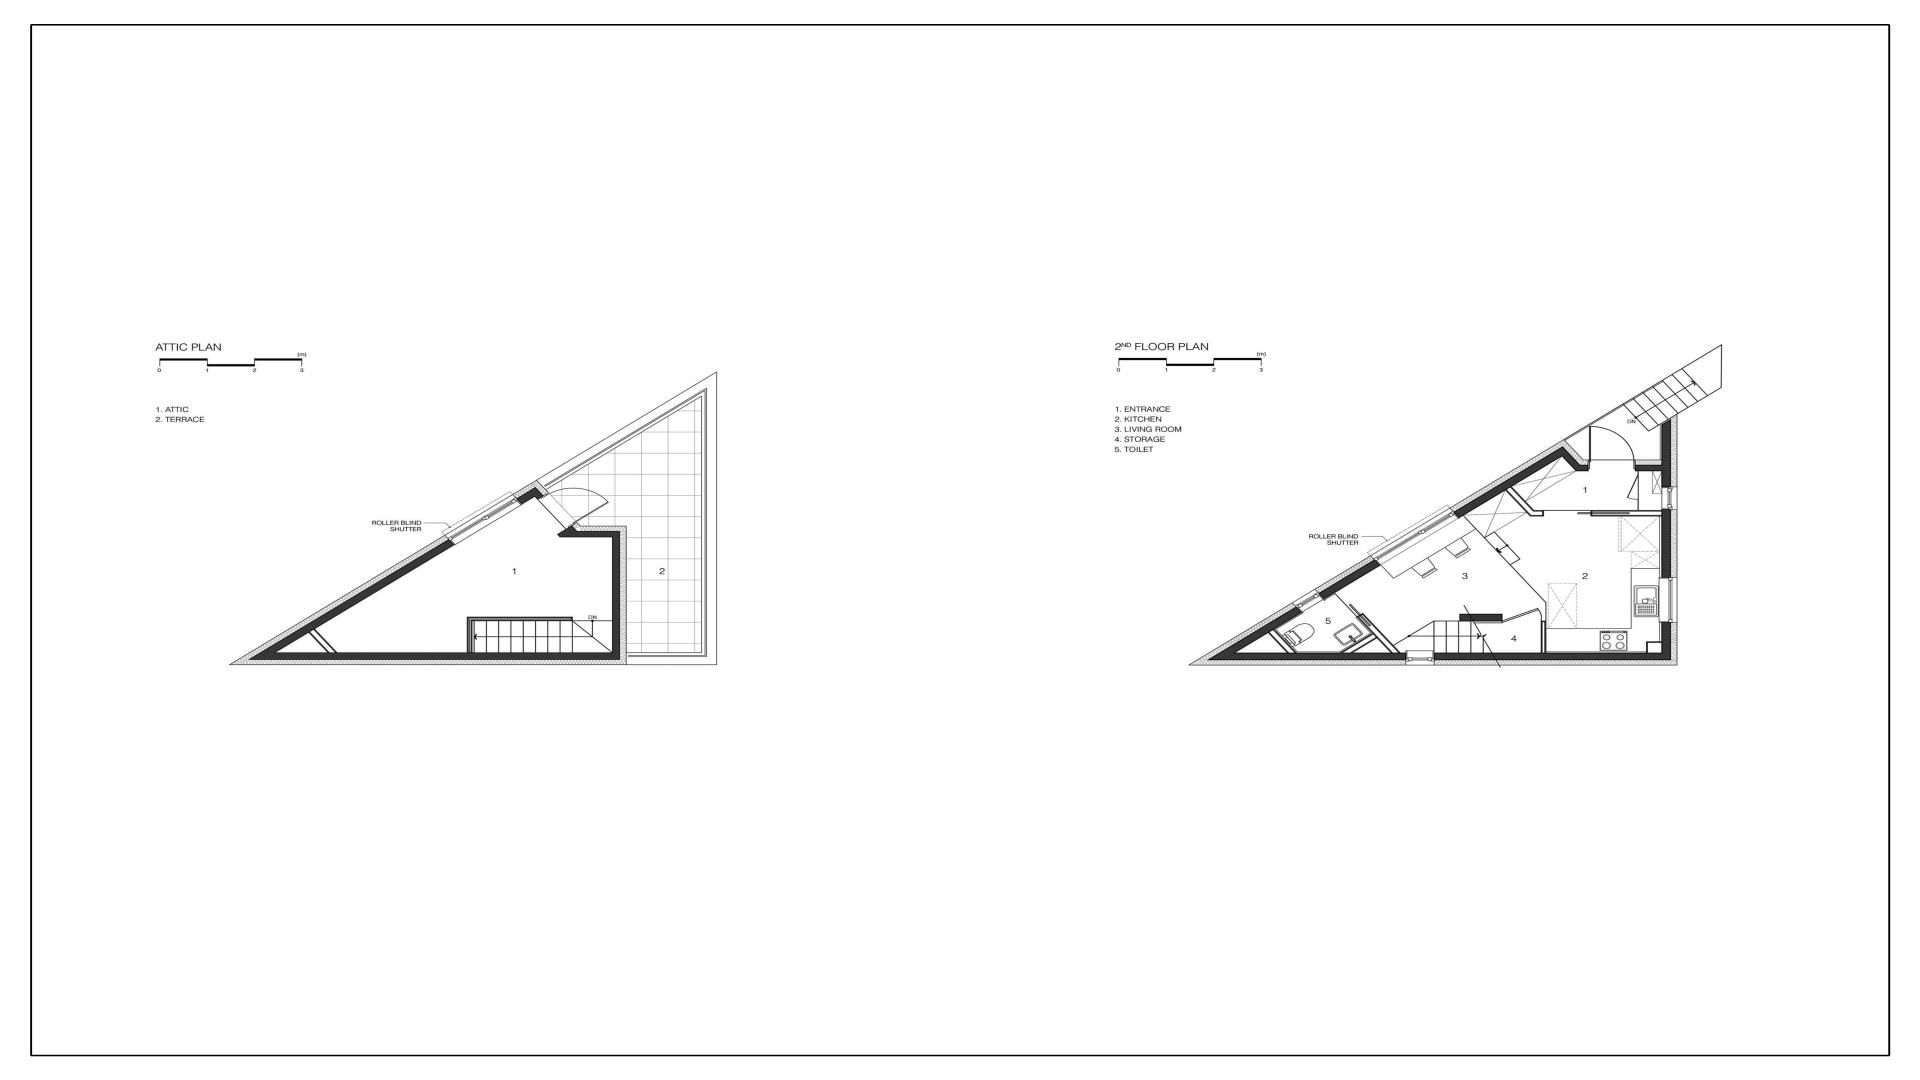door: (1335, 589, 1400, 653), (538, 475, 609, 529), (1589, 426, 1635, 472), (1543, 510, 1662, 517), (1502, 608, 1540, 624)
wall: (249, 539, 455, 659), (537, 372, 717, 489), (1453, 450, 1561, 518), (1564, 380, 1663, 440), (1207, 607, 1302, 661), (702, 372, 717, 653), (1319, 559, 1381, 599), (249, 653, 620, 659), (1435, 653, 1662, 661), (1207, 653, 1406, 661), (626, 653, 717, 665), (1394, 621, 1433, 646), (612, 531, 620, 653), (1506, 487, 1534, 517), (1340, 633, 1377, 653), (309, 629, 338, 653), (1269, 629, 1296, 653), (1662, 509, 1671, 578), (1662, 419, 1671, 487), (1556, 446, 1580, 471), (517, 487, 541, 505), (472, 617, 572, 621), (1662, 622, 1671, 661), (559, 531, 612, 538), (1460, 613, 1502, 621), (556, 526, 578, 537), (1540, 621, 1547, 653), (467, 617, 472, 653), (1635, 464, 1662, 471), (1576, 464, 1589, 471), (1530, 510, 1543, 517), (1473, 621, 1502, 624), (535, 493, 543, 500), (1648, 641, 1662, 644), (1646, 641, 1648, 653), (1433, 621, 1460, 621)
window: (1370, 508, 1460, 566), (444, 495, 522, 546), (1659, 578, 1677, 622), (1292, 589, 1325, 613), (1406, 650, 1435, 665), (1662, 487, 1677, 509)
